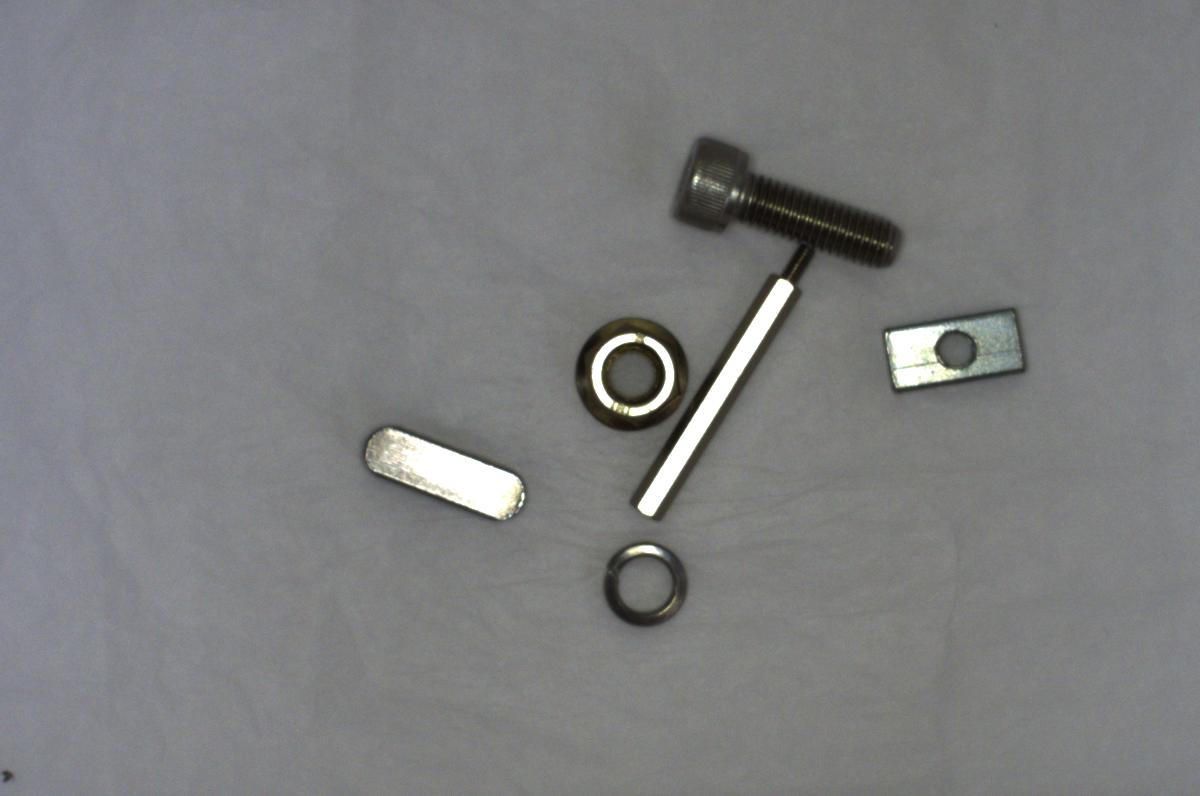Flange nut: (567, 305, 689, 433)
Hexagon screw: (661, 127, 898, 265)
Hexagonal steel column: (626, 227, 820, 519)
Keybar: (360, 422, 542, 523)
Rectangular nut: (879, 301, 1032, 392)
Spring washer: (596, 533, 689, 635)
